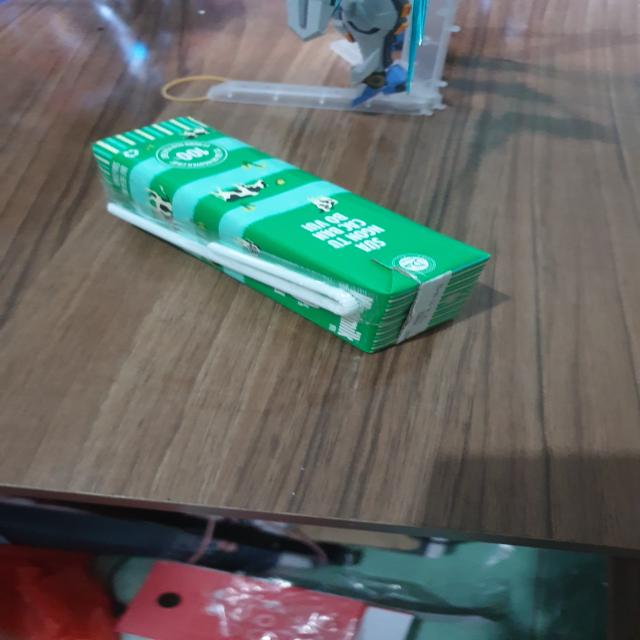Vina: (87, 114, 498, 360)
